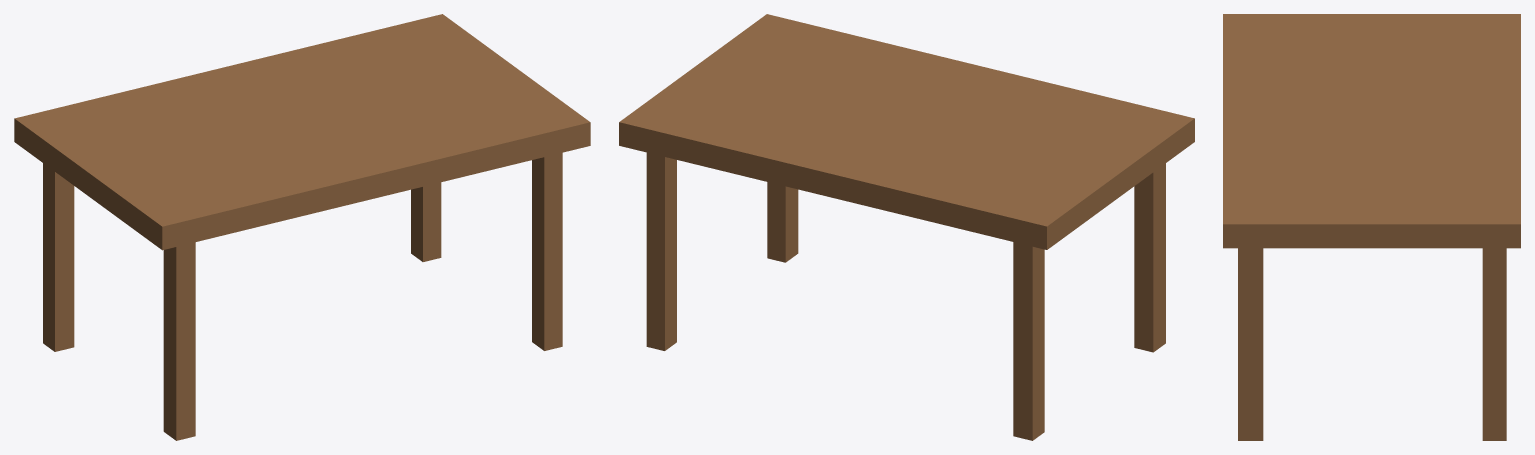
The model's file is meja.fbx.
The picture shows the model from 3 angles, left to right: view 1: azimuth 30°, elevation 25°; view 2: azimuth 150°, elevation 25°; view 3: azimuth 270°, elevation 25°; orthographic projection.
Parts seen in each view (by area): view 1: Cube; view 2: Cube; view 3: Cube.
Part boxes in pixels (x1,y1,x2,y2): Cube: (14,14,590,440); Cube: (619,14,1194,440); Cube: (1223,14,1520,440).
Size of the model in its own units: 334 by 168 by 200.
